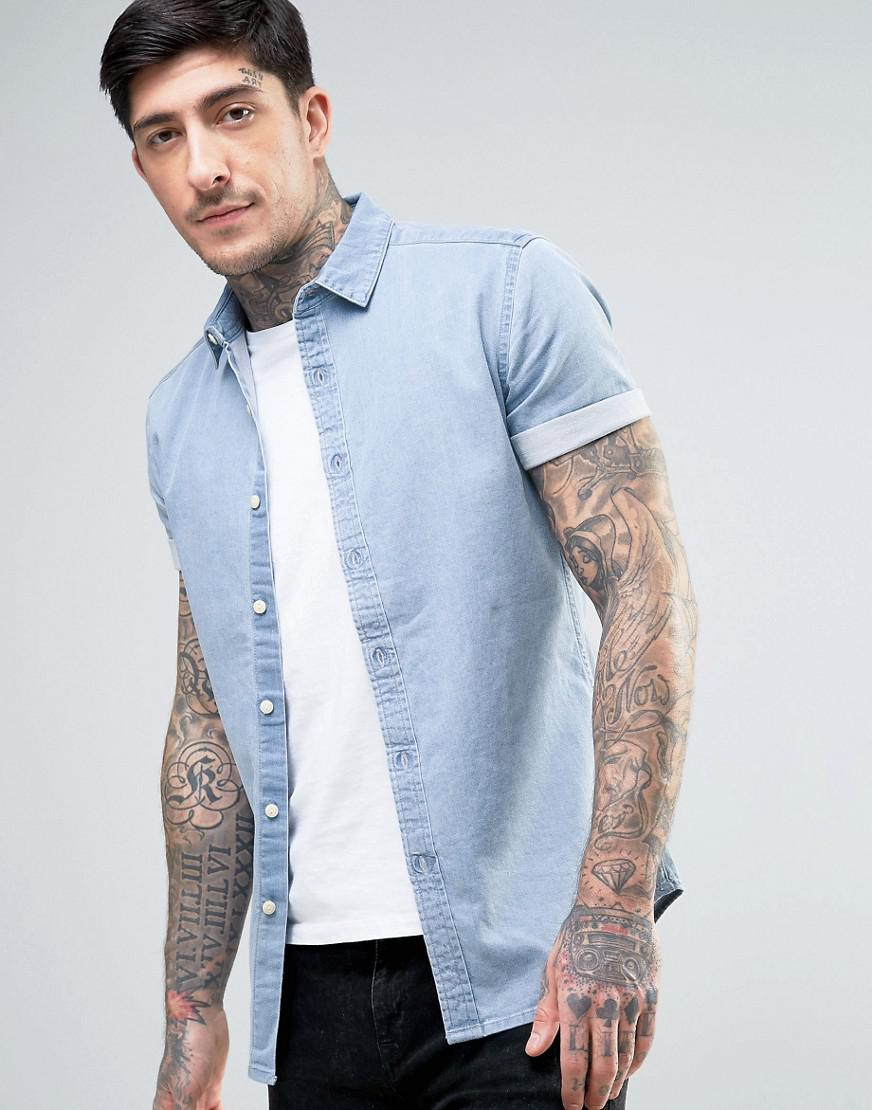teeshirt: (125, 191, 702, 1073)
